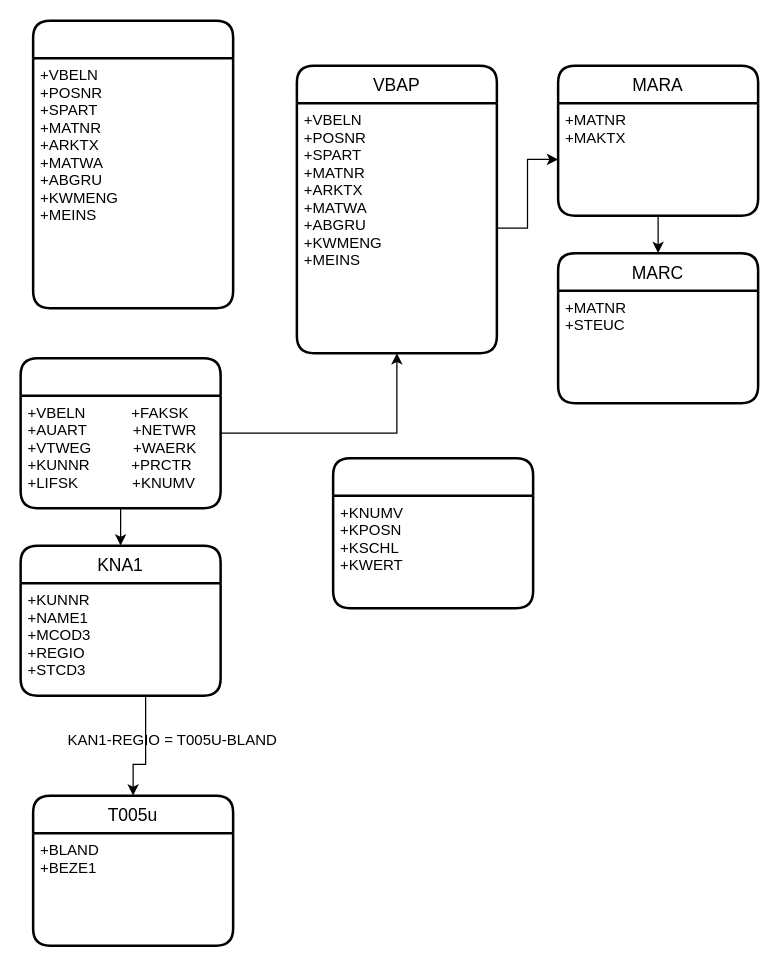
The diagram is 779 pixels wide and 966 high, and some of its shapes have lost their labels. The shapes that lost their labels are listed below. From the top down, each one's box as (x1, y1, x2, y2) in pixels, then its label:
(31, 19, 234, 309): VBFA
(19, 356, 221, 509): VBAK
(331, 456, 534, 609): KONV
